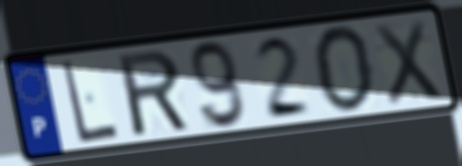2: (249, 35, 313, 122)
9: (185, 39, 248, 130)
L: (58, 57, 122, 147)
O: (310, 23, 378, 116)
R: (113, 46, 194, 140)
X: (370, 16, 446, 109)
